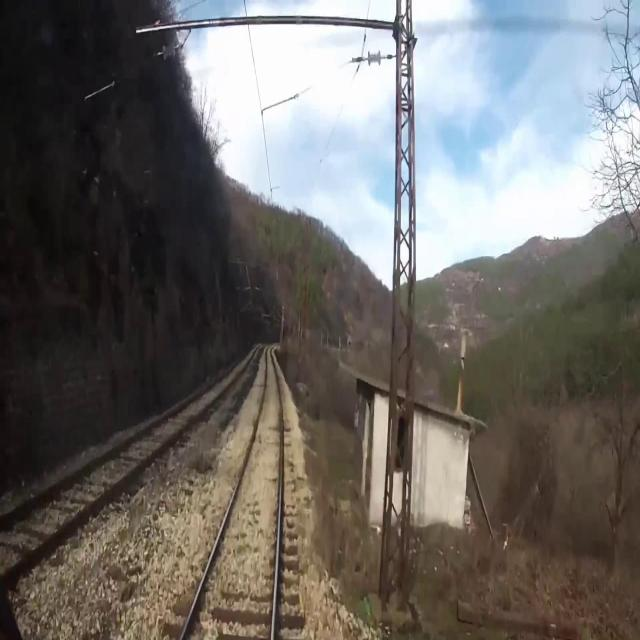rail-track: (0, 355, 249, 570), (185, 350, 279, 639)
